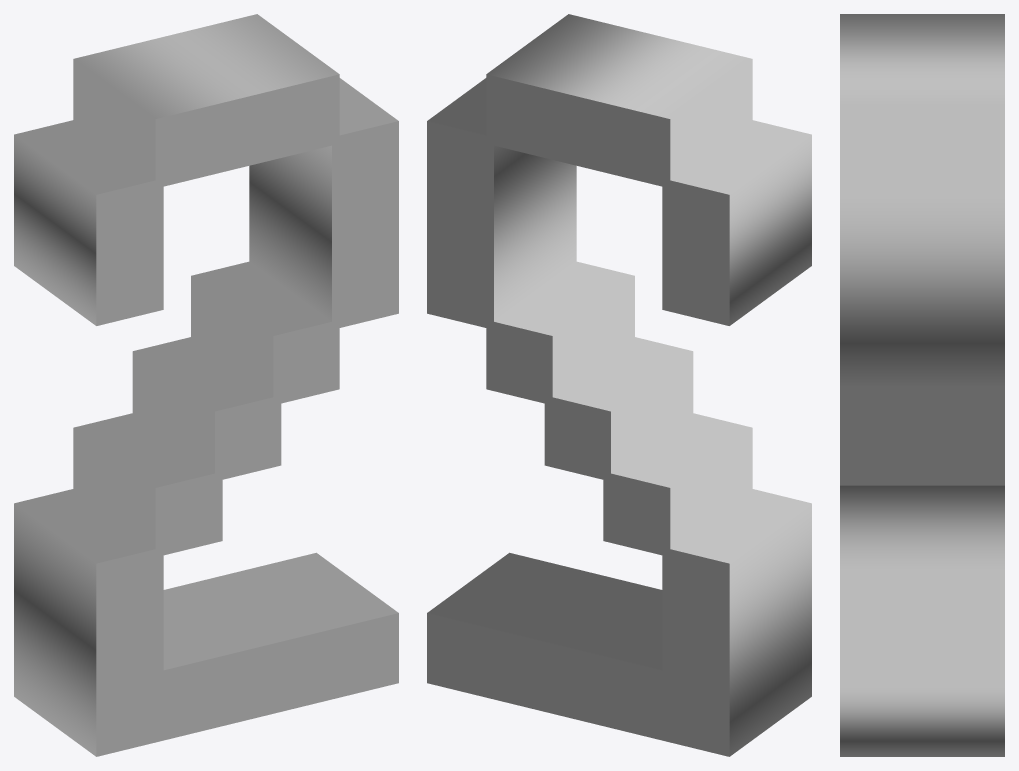
The model's file is number_2.fbx.
3 views of the same model, side by side, from view 1: azimuth 30°, elevation 25°; view 2: azimuth 150°, elevation 25°; view 3: azimuth 270°, elevation 25° (orthographic).
Parts seen in each view (by area): view 1: 2; view 2: 2; view 3: 2.
Part boxes in pixels (x1,y1,x2,y2): 2: (14, 14, 398, 756); 2: (427, 14, 811, 756); 2: (840, 14, 1004, 756).
Bounding box in the file's own units: 84.8 × 167 × 40.
